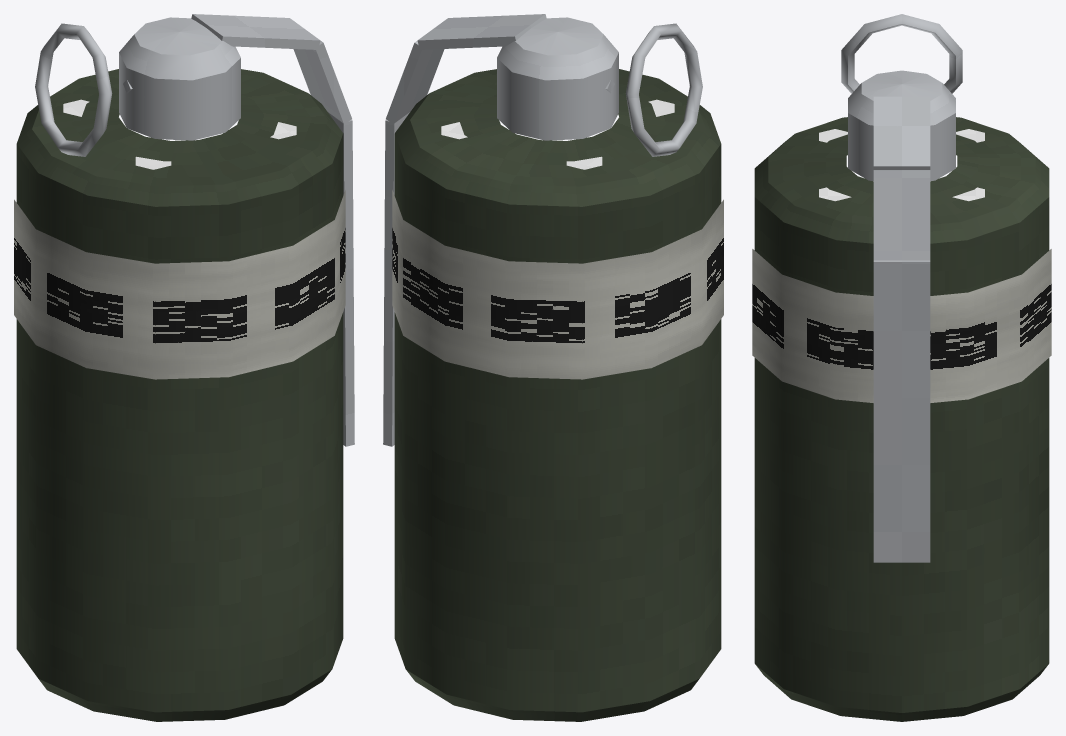
Rendered from item_smoke_can.glb.
The picture shows the model from 3 angles, left to right: view 1: azimuth 30°, elevation 25°; view 2: azimuth 150°, elevation 25°; view 3: azimuth 270°, elevation 25°; orthographic projection. The views are drawn at different scales.
Parts seen in each view (by area): view 1: smoke; view 2: smoke; view 3: smoke.
Boxes of the visible parts, x1,y1,x2,y2 form: smoke: (14,14,354,721); smoke: (383,14,723,721); smoke: (752,14,1051,721).
Size of the model in its own units: 0.0685 by 0.1413 by 0.0634.
4 materials, 4 textured.
